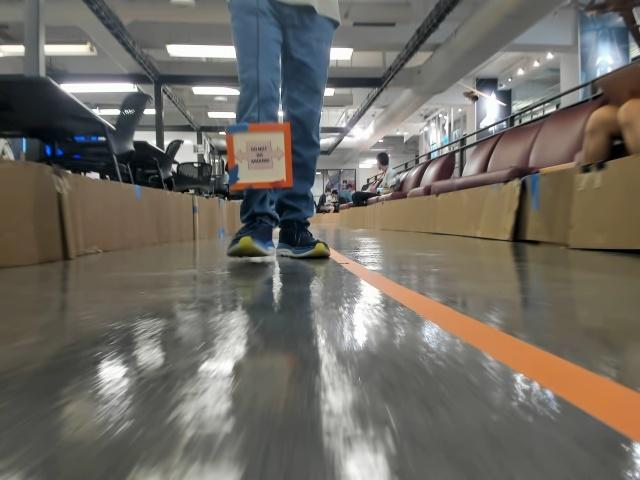Do Not Go Around: (233, 141, 281, 171)
